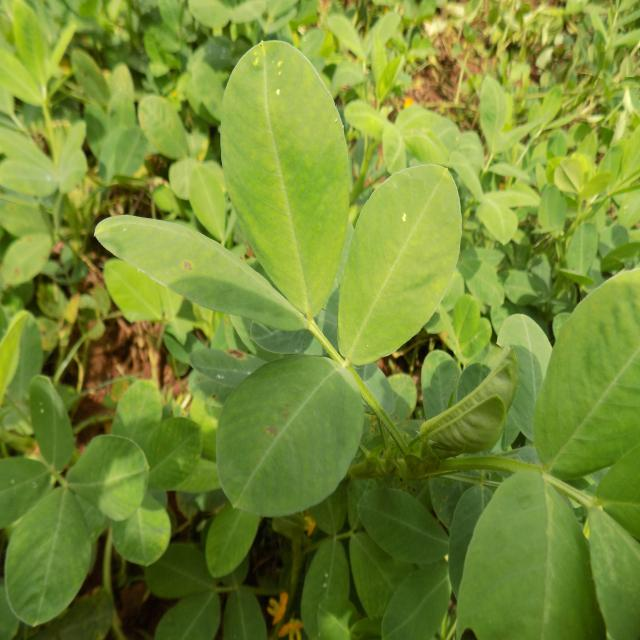Ground nut_healthy: (219, 33, 348, 330), (98, 209, 314, 334), (334, 162, 465, 366), (456, 464, 605, 640), (216, 352, 365, 517), (534, 270, 640, 472), (6, 484, 94, 627), (351, 484, 450, 567), (378, 566, 464, 635), (31, 372, 78, 476), (135, 90, 198, 167), (302, 538, 344, 634), (109, 382, 164, 450), (479, 76, 512, 153), (545, 152, 588, 202), (475, 200, 511, 248), (567, 218, 597, 273)
